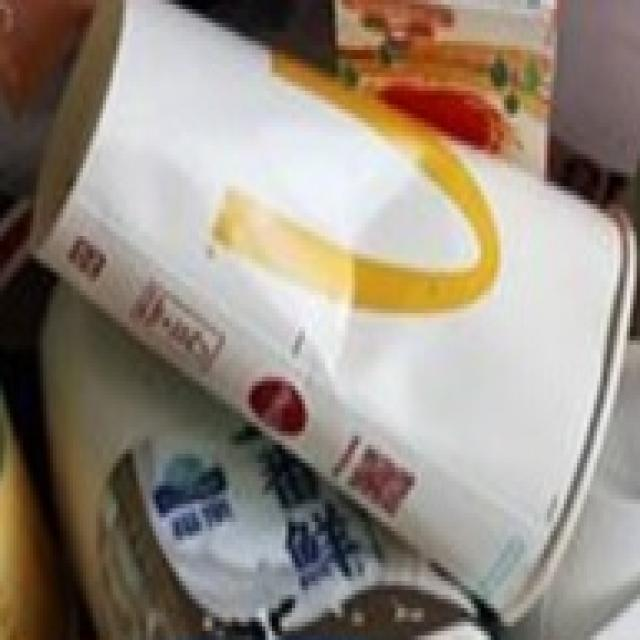plastic cup: (16, 0, 640, 608)
